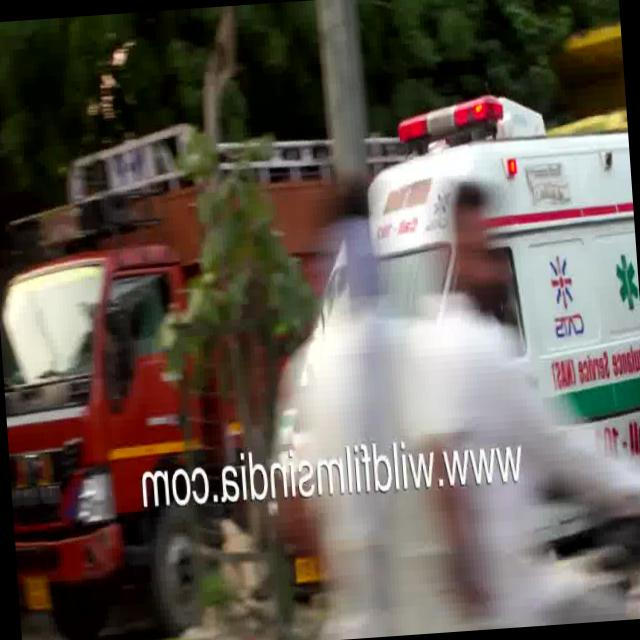ambulance: (336, 68, 632, 220), (510, 218, 640, 428)
